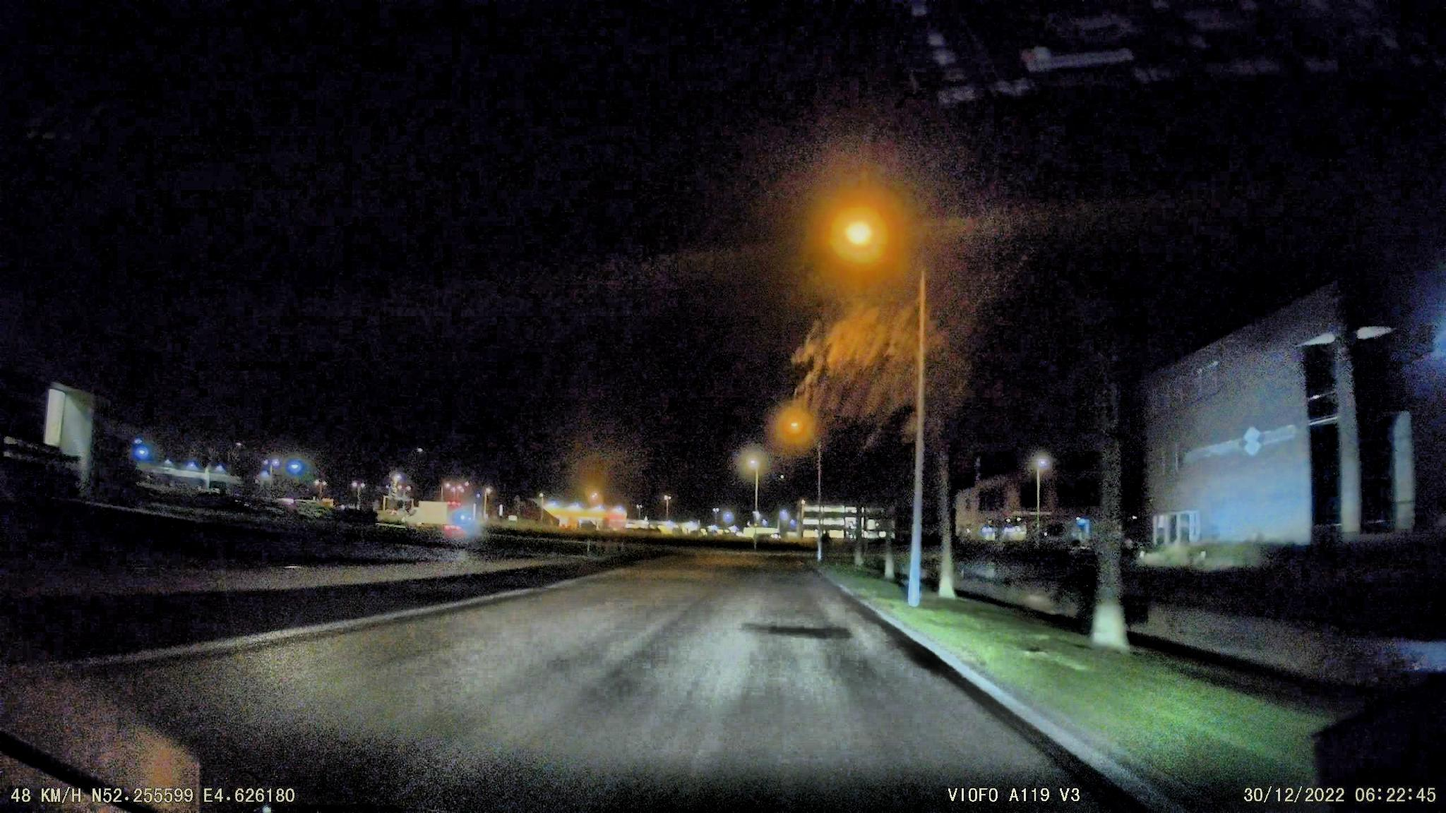Roads: (7, 561, 1074, 788)
